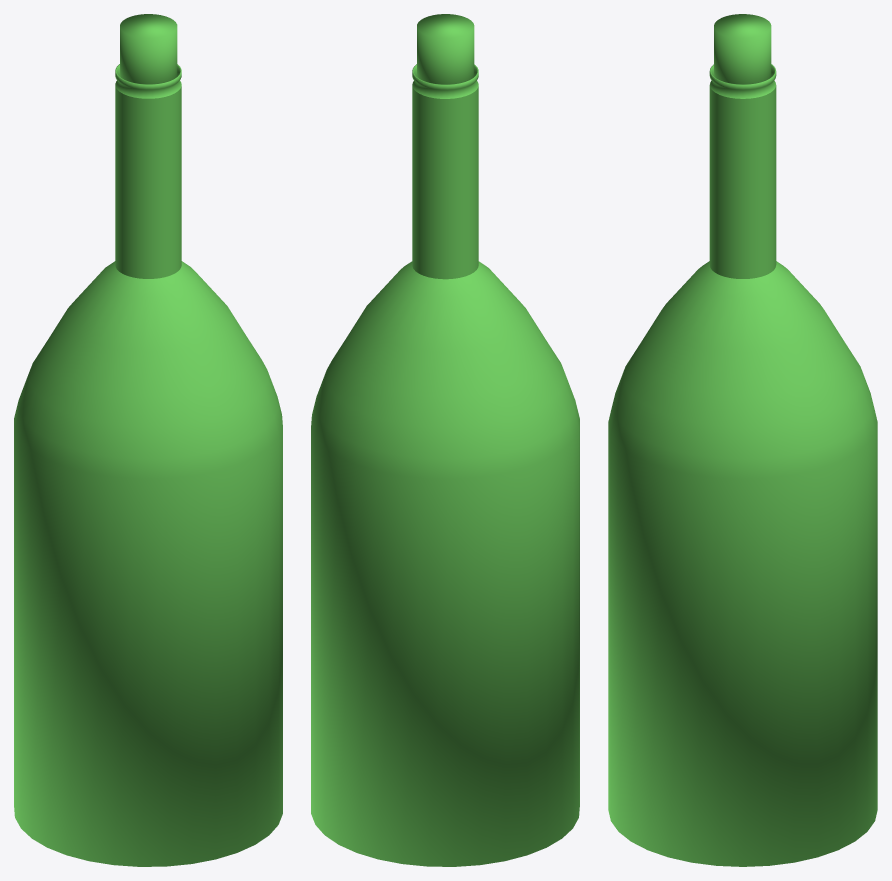
File: Liquor.fbx
3 renders of one model, left to right at view 1: azimuth 30°, elevation 25°; view 2: azimuth 150°, elevation 25°; view 3: azimuth 270°, elevation 25°, orthographic.
Parts seen in each view (by area): view 1: Bottle, Cork; view 2: Bottle, Cork; view 3: Bottle, Cork.
Boxes of the visible parts, x1=… form: Bottle: x1=14, y1=64, x2=282, y2=866; Cork: x1=120, y1=14, x2=177, y2=84; Bottle: x1=311, y1=64, x2=579, y2=866; Cork: x1=417, y1=14, x2=474, y2=84; Bottle: x1=608, y1=64, x2=877, y2=866; Cork: x1=714, y1=14, x2=771, y2=84.
Size of the model in its own units: 0.4459 by 1.43 by 0.4459.
